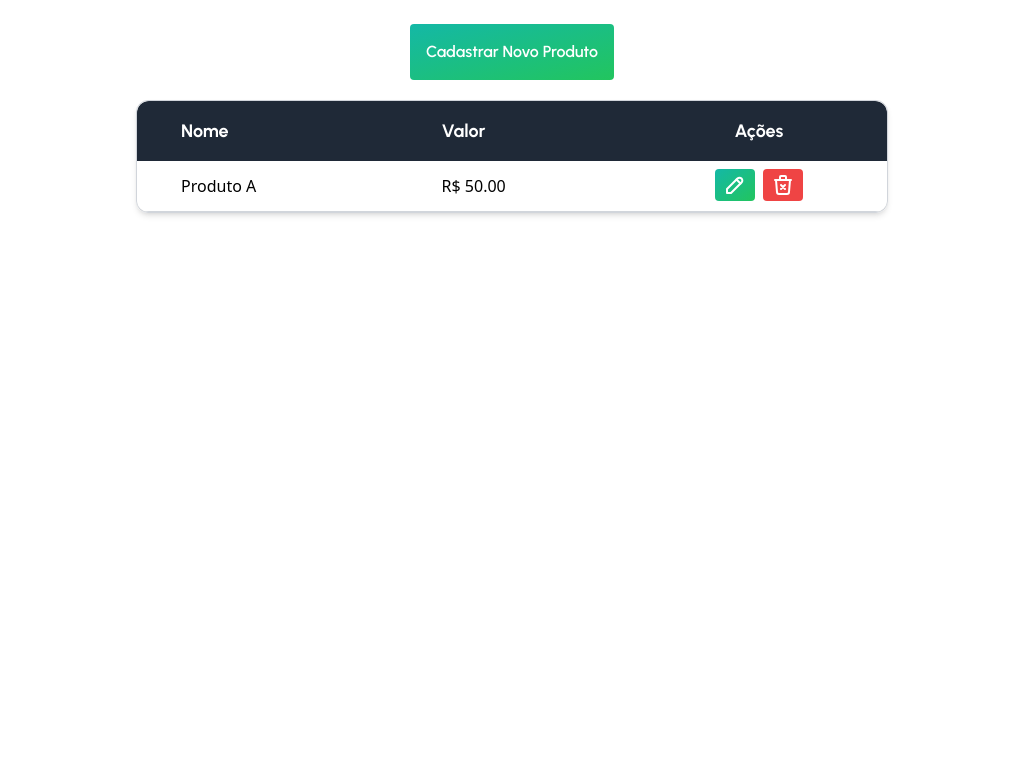
Componente ProductList › deve fechar o modal ao clicar no botão de fechar
Click the text "Produto A" at coordinates (281, 186), box top-left (137, 161), bottom-right (426, 212)
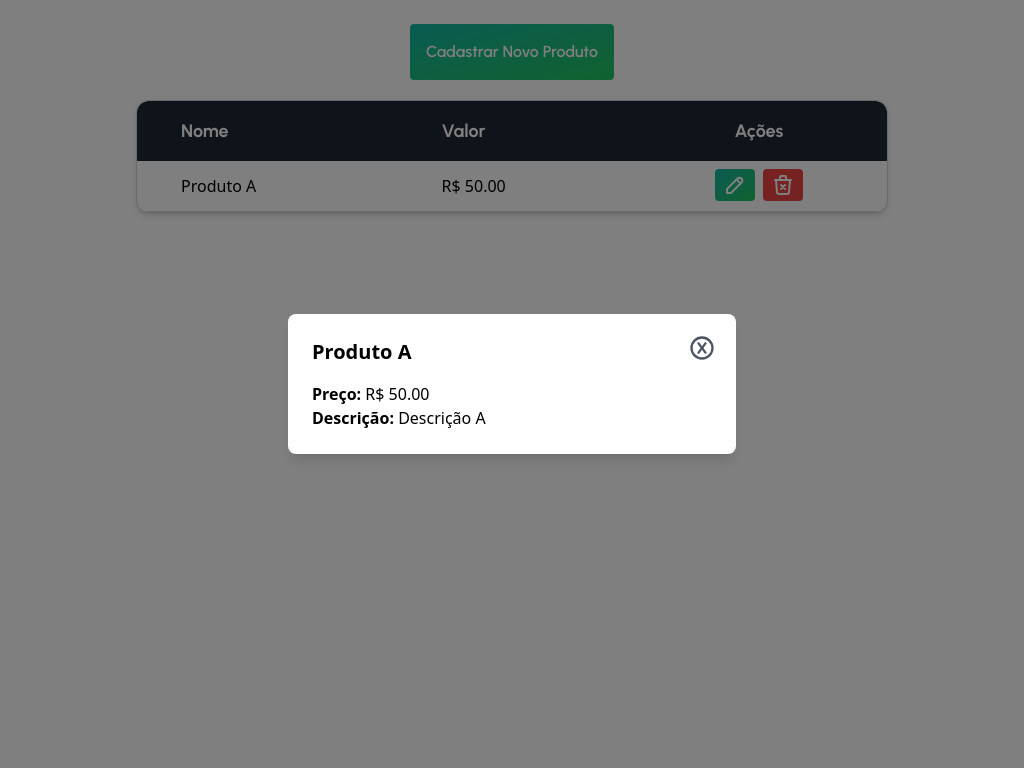
Now the text "Descrição:" is shown, box top-left (312, 407), bottom-right (394, 429)
Now the text "Descrição: Descrição A" is shown, box top-left (312, 407), bottom-right (486, 429)
Click the button named "fechar" at coordinates (702, 348), box top-left (688, 334), bottom-right (716, 362)
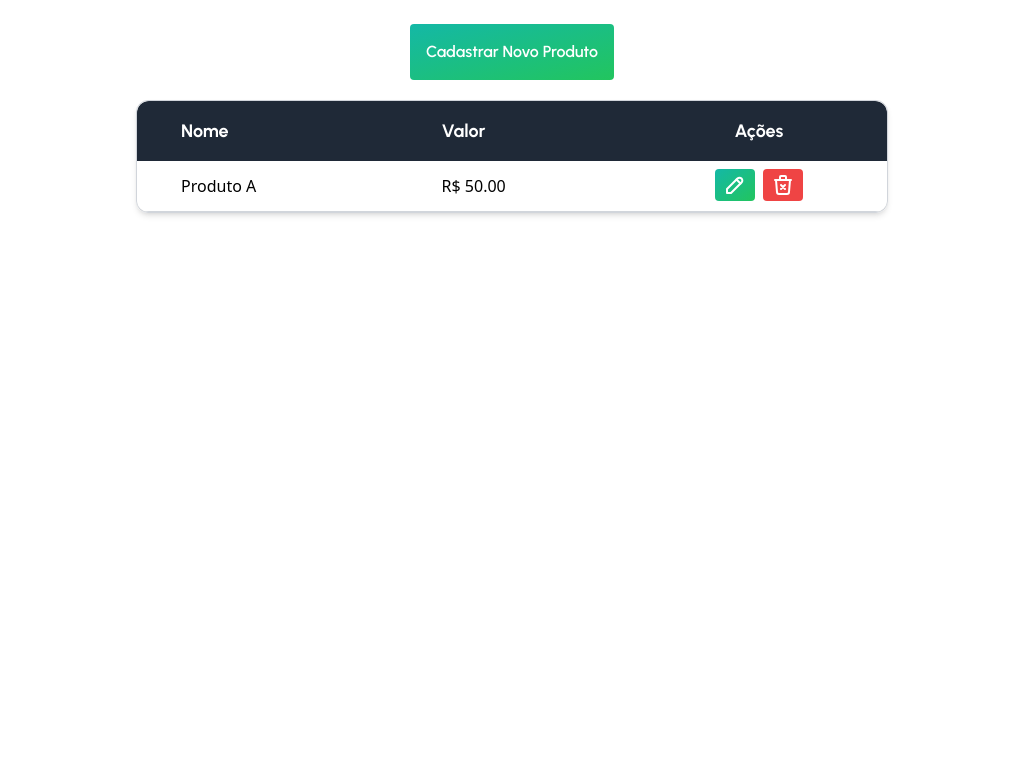
Now the text "Descrição: Descrição A" is gone
